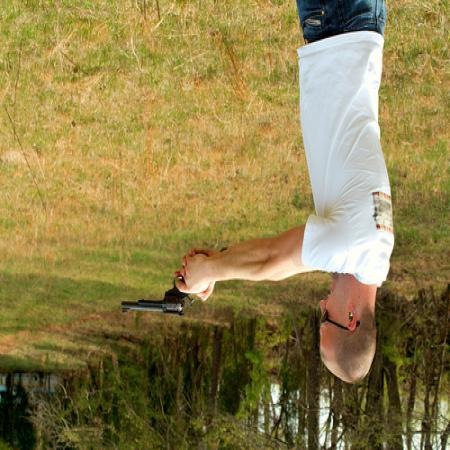Pistol: (121, 274, 197, 318)
